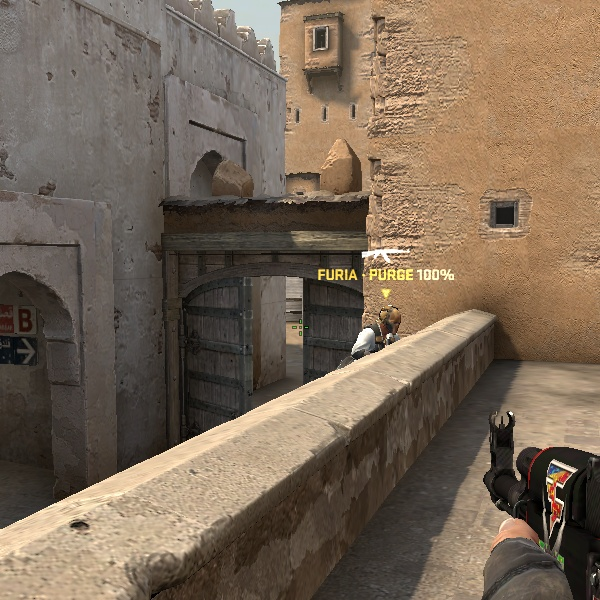t_body: (343, 302, 416, 363)
t_head: (375, 302, 412, 342)
